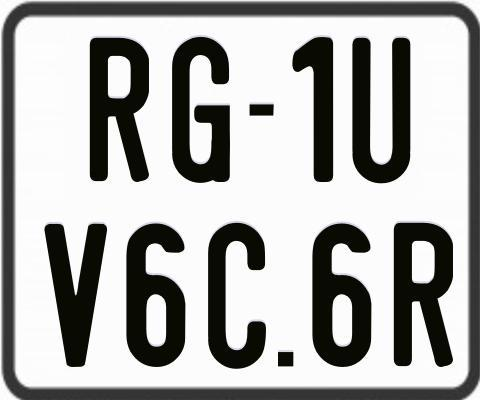1: (291, 34, 337, 185)
6: (309, 222, 371, 368), (123, 221, 184, 365)
C: (206, 223, 267, 372)
G: (169, 37, 229, 186)
R: (88, 38, 151, 185), (391, 222, 450, 367)
U: (350, 36, 412, 182)
V: (45, 223, 113, 366)
